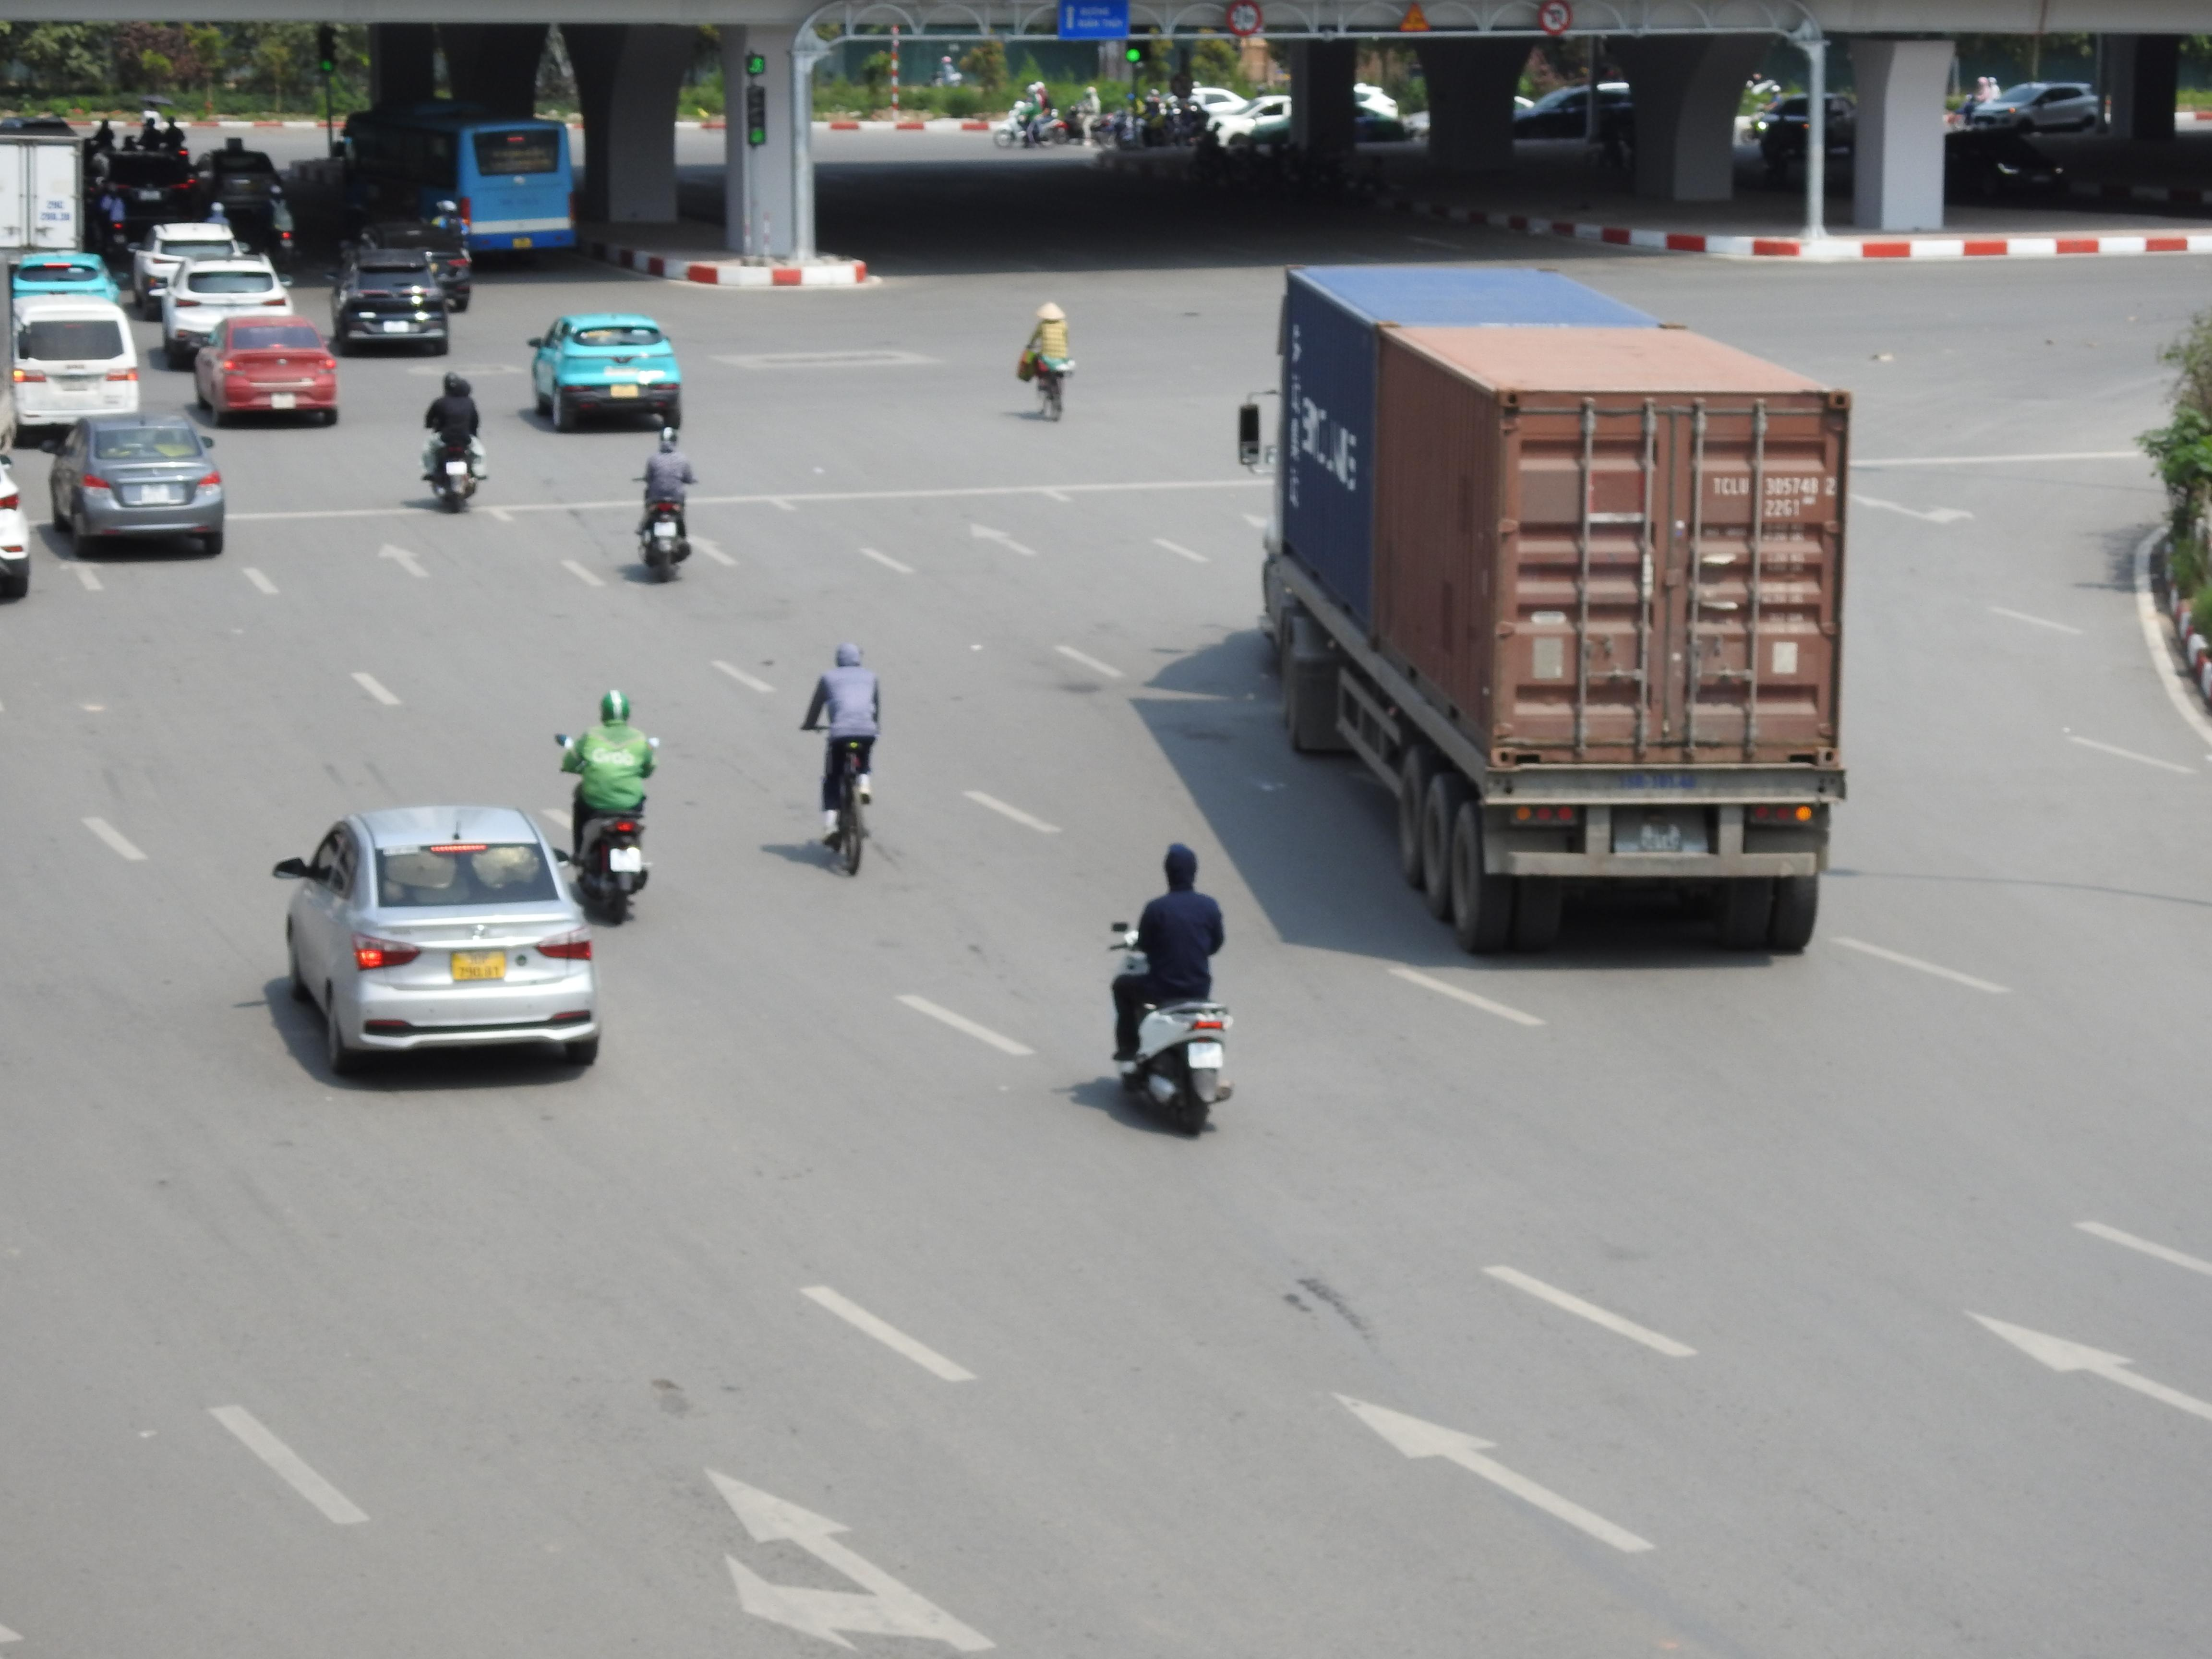BSV: (451, 951, 507, 981), (1641, 823, 1681, 852)
bus: (338, 99, 578, 265)
car: (272, 803, 601, 1077), (45, 411, 228, 559), (9, 295, 143, 443), (528, 312, 685, 432), (192, 314, 341, 429), (158, 254, 293, 368), (329, 249, 451, 355), (131, 221, 242, 301)
motorbike: (1106, 842, 1235, 1140), (557, 688, 655, 927), (803, 641, 881, 878), (420, 373, 486, 514), (636, 427, 695, 584), (1019, 301, 1075, 423)
truck: (1238, 267, 1855, 960)
